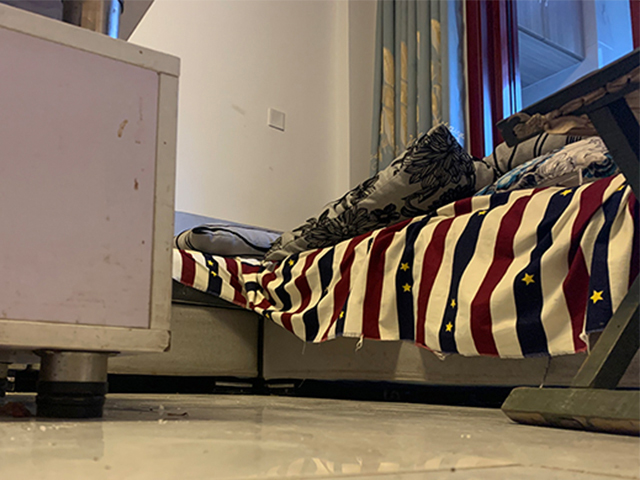curtain: (372, 2, 453, 168)
sofa: (171, 117, 639, 398)
table: (1, 2, 181, 423)
